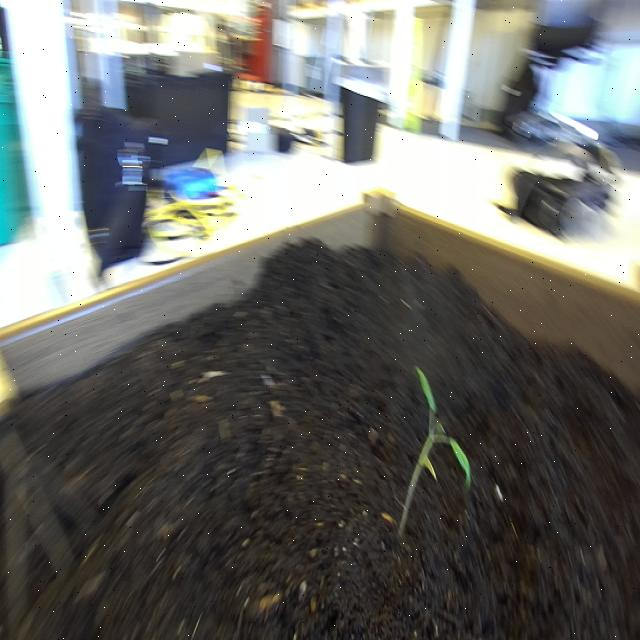Healthy: (389, 354, 477, 548)
